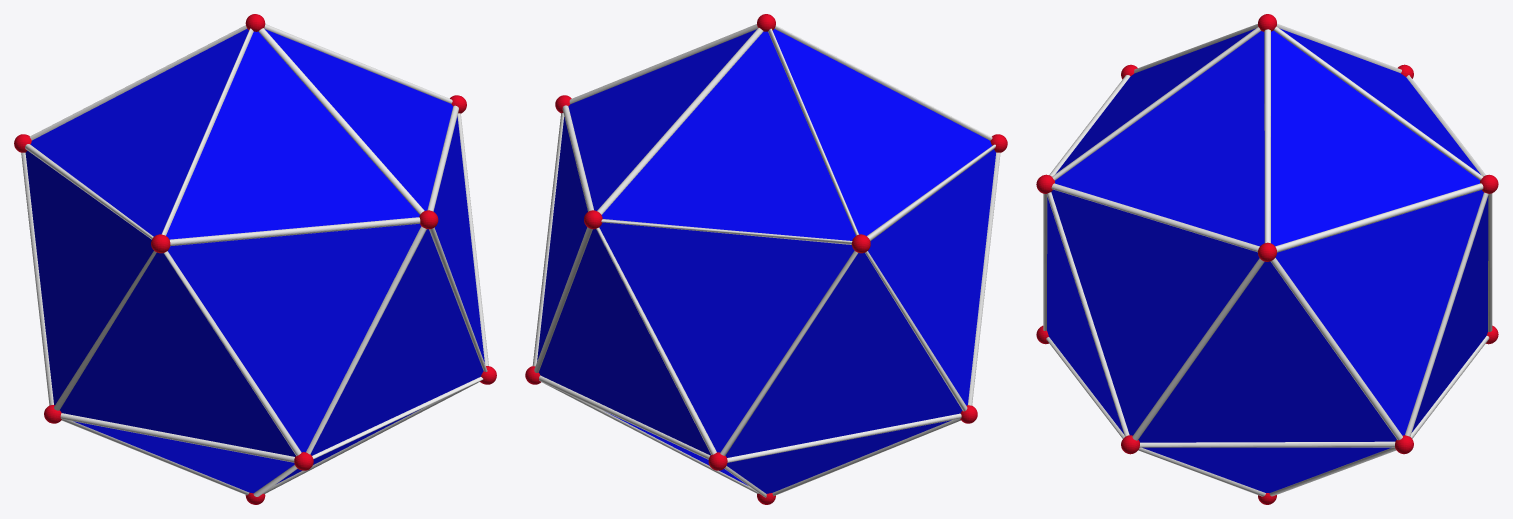
The picture shows the model from 3 angles, left to right: view 1: azimuth 30°, elevation 25°; view 2: azimuth 150°, elevation 25°; view 3: azimuth 270°, elevation 25°; orthographic projection.
Parts seen in each view (by area): view 1: Full, F, E, V; view 2: Full, F, E; view 3: F, E, Full, V.
Boxes of the visible parts, bbox=[...] form: Full: bbox=[14, 14, 489, 504]; F: bbox=[168, 29, 484, 483]; E: bbox=[21, 24, 488, 496]; V: bbox=[21, 14, 496, 504]; Full: bbox=[526, 14, 1007, 504]; F: bbox=[537, 29, 849, 484]; E: bbox=[532, 24, 1000, 497]; F: bbox=[1047, 30, 1488, 493]; E: bbox=[1043, 23, 1492, 496]; Full: bbox=[1041, 14, 1498, 501]; V: bbox=[1036, 15, 1496, 504].
Size of the model in its own units: 152 by 169 by 145.
